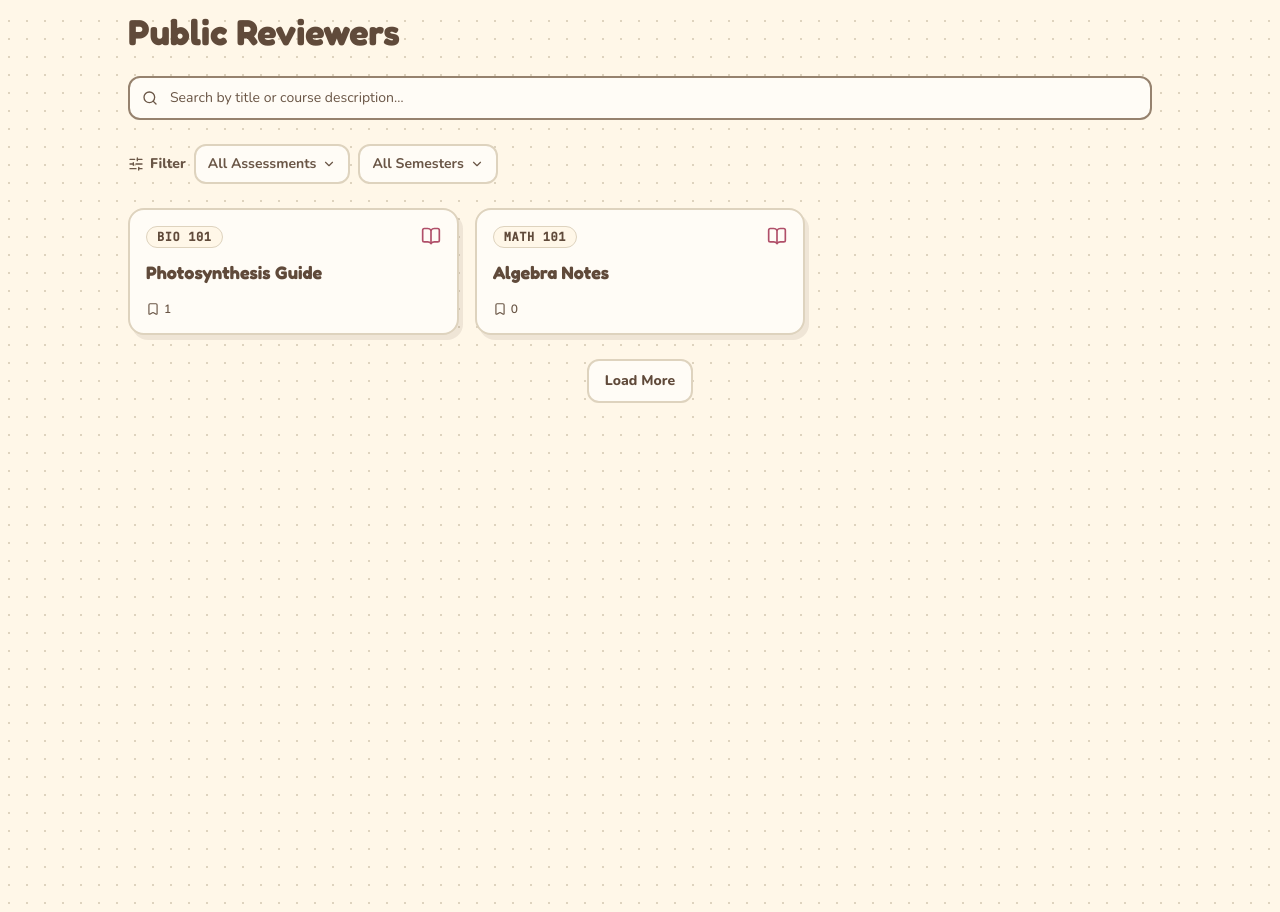
Scenario: ReviewerList search › loads the next page and keeps earlier reviewers
Expected: the heading "Photosynthesis Guide" is shown, [146,261,322,283]
Click the button with aria-label "Load more reviewers". click: point(640, 381)
box: [587,359,693,403]
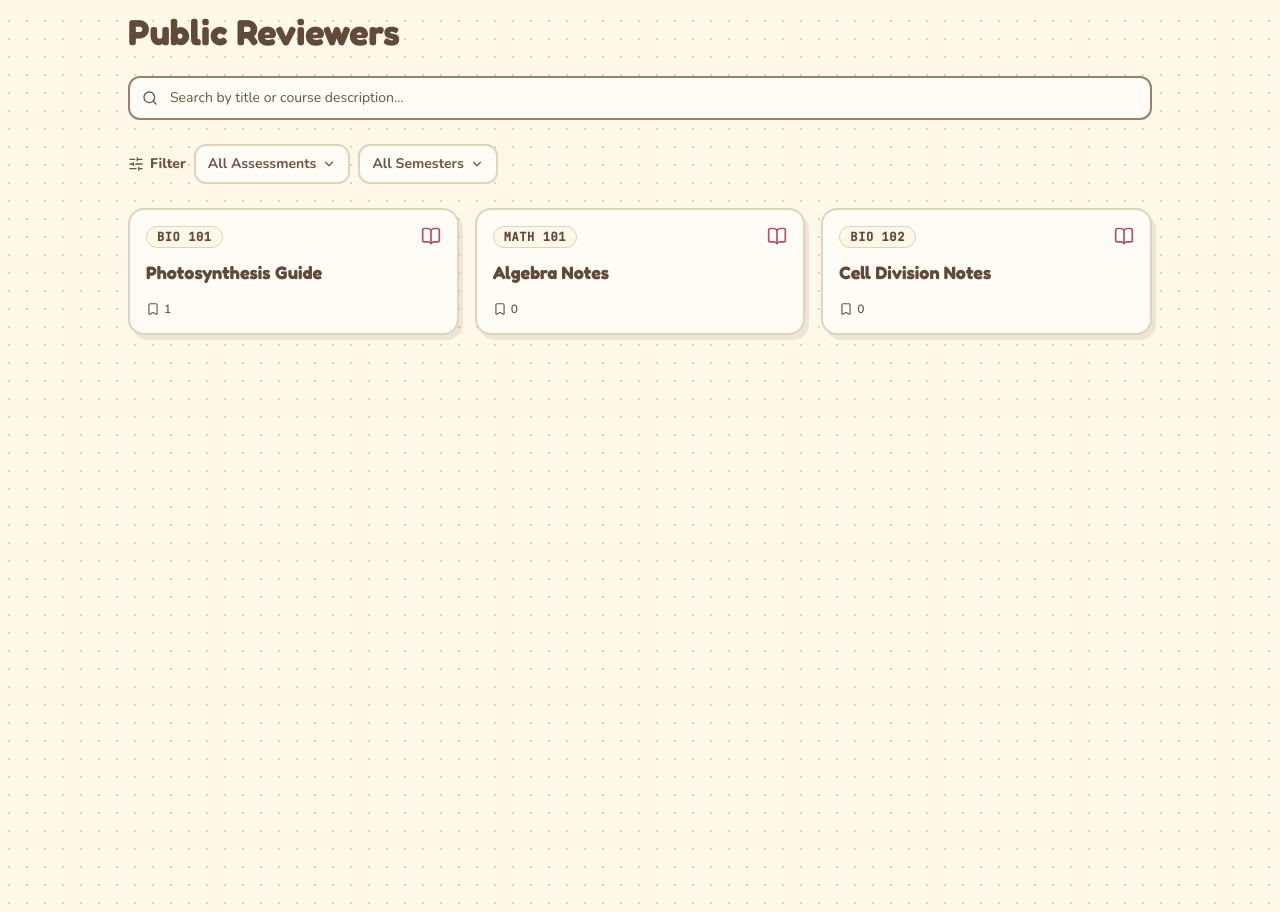
Expected: the heading "Photosynthesis Guide" is shown, [146,261,322,283]
Now the heading "Cell Division Notes" is shown, box [839,261,991,283]
